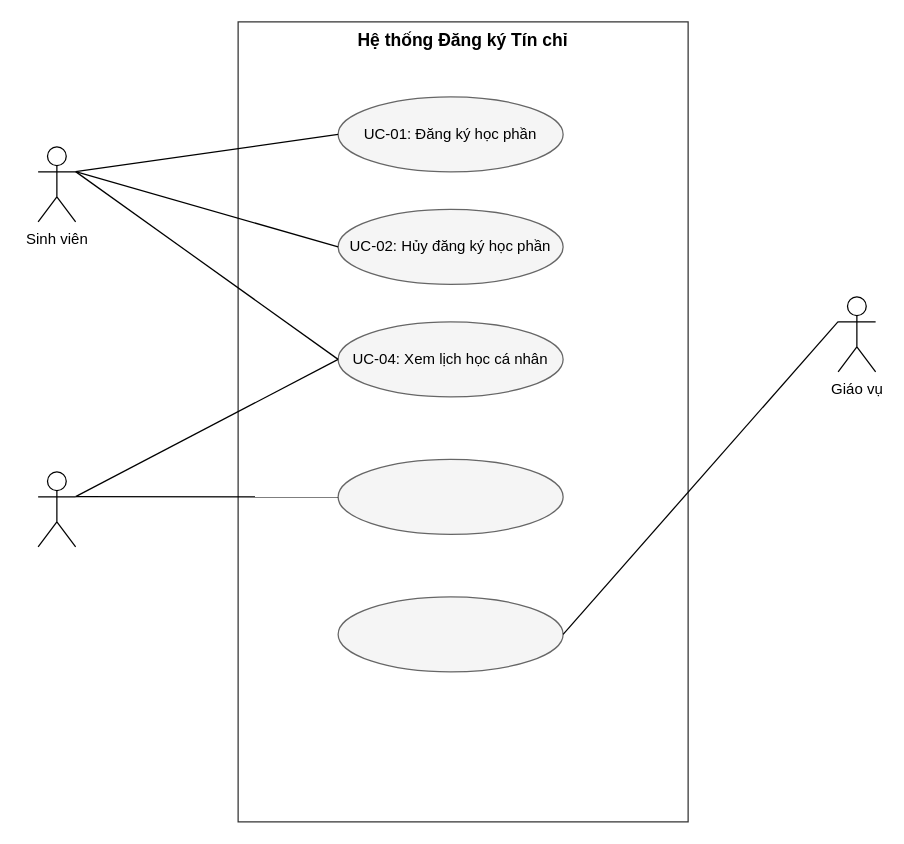
This 904x844 diagram has some shape labels left out. The shapes that lost their labels are listed below. From the top down, each one's centre as x and y in pixels, then its label:
At (56,509): "Giảng viên".
At (450,496): "UC-07: Nhập điểm học phần".
At (450,634): "UC-09: Thêm/Sửa lớp học phần".
